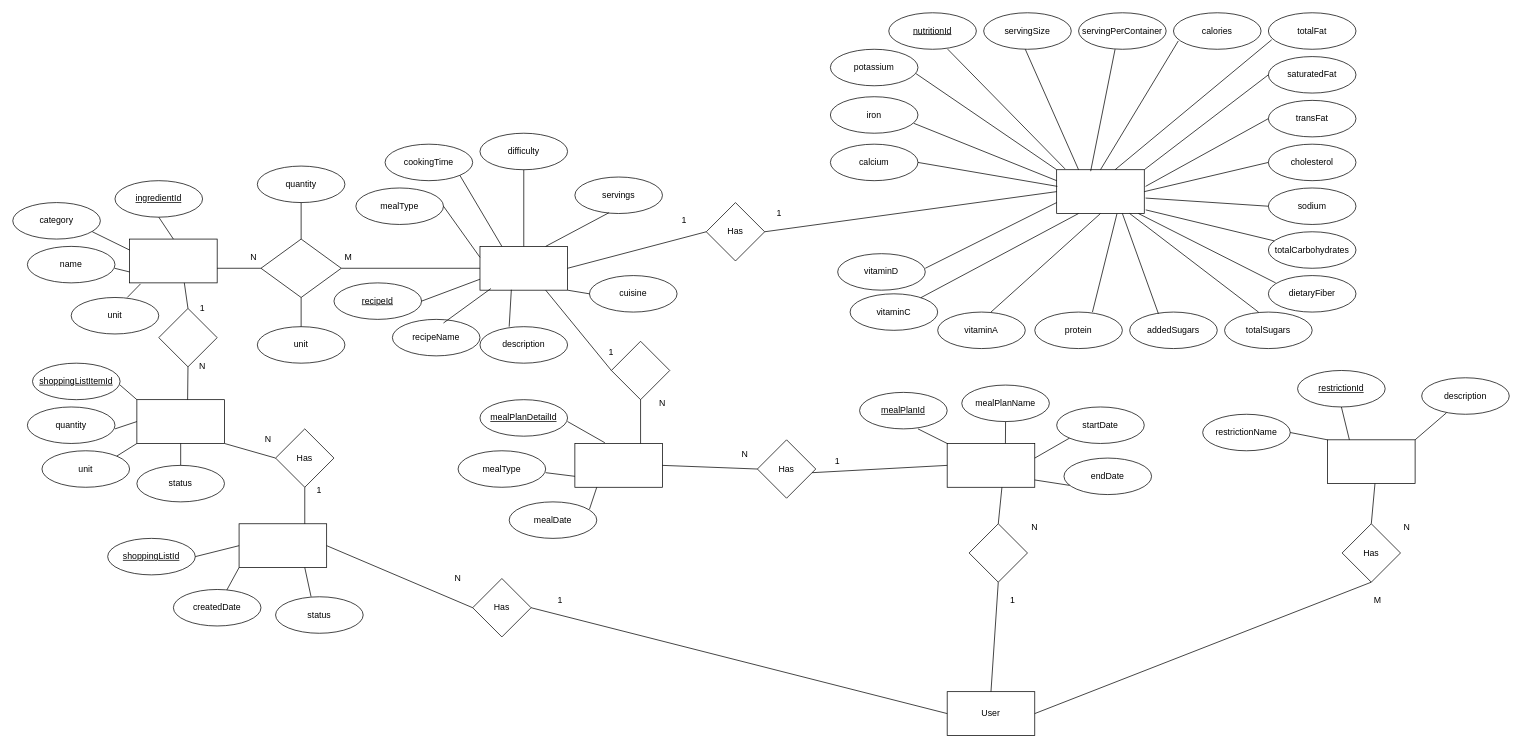
Image size: 1522x748. Some labels were removed from this diagram. The shapes that lost their labels are listed below. From the top down, each one's box as (x1, y1, x2, y2) in pixels, then its label:
(1056, 169, 1144, 214): NutritionFacts
(129, 238, 217, 283): Ingredients
(260, 238, 341, 297): RecipeIngredient
(479, 246, 568, 290): Recipes
(158, 308, 217, 367): Is
(611, 341, 670, 400): Consists
(136, 399, 224, 443): ShoppingListItems
(574, 443, 662, 487): MealPlanDetails
(946, 443, 1035, 487): MealPlans
(1327, 439, 1415, 484): DietaryRestriction
(238, 523, 327, 568): ShoppingLists
(968, 523, 1027, 582): Creates
